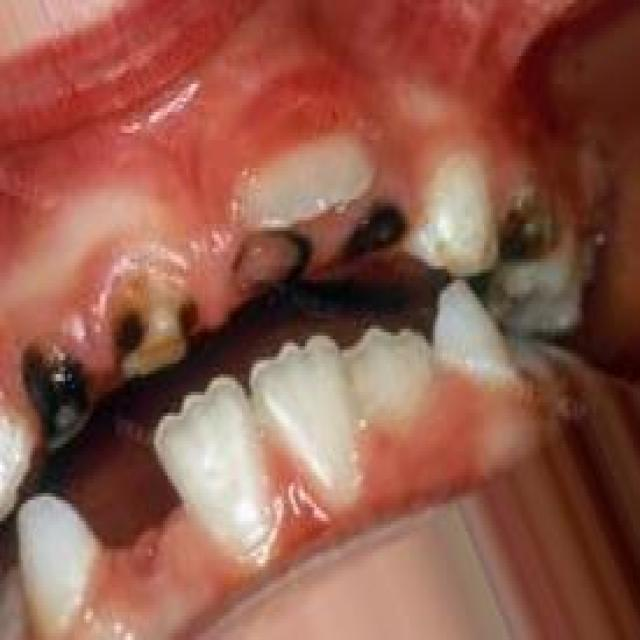caries: (8, 324, 107, 454), (104, 264, 200, 384), (482, 177, 578, 293), (230, 217, 322, 311), (332, 186, 406, 280)
